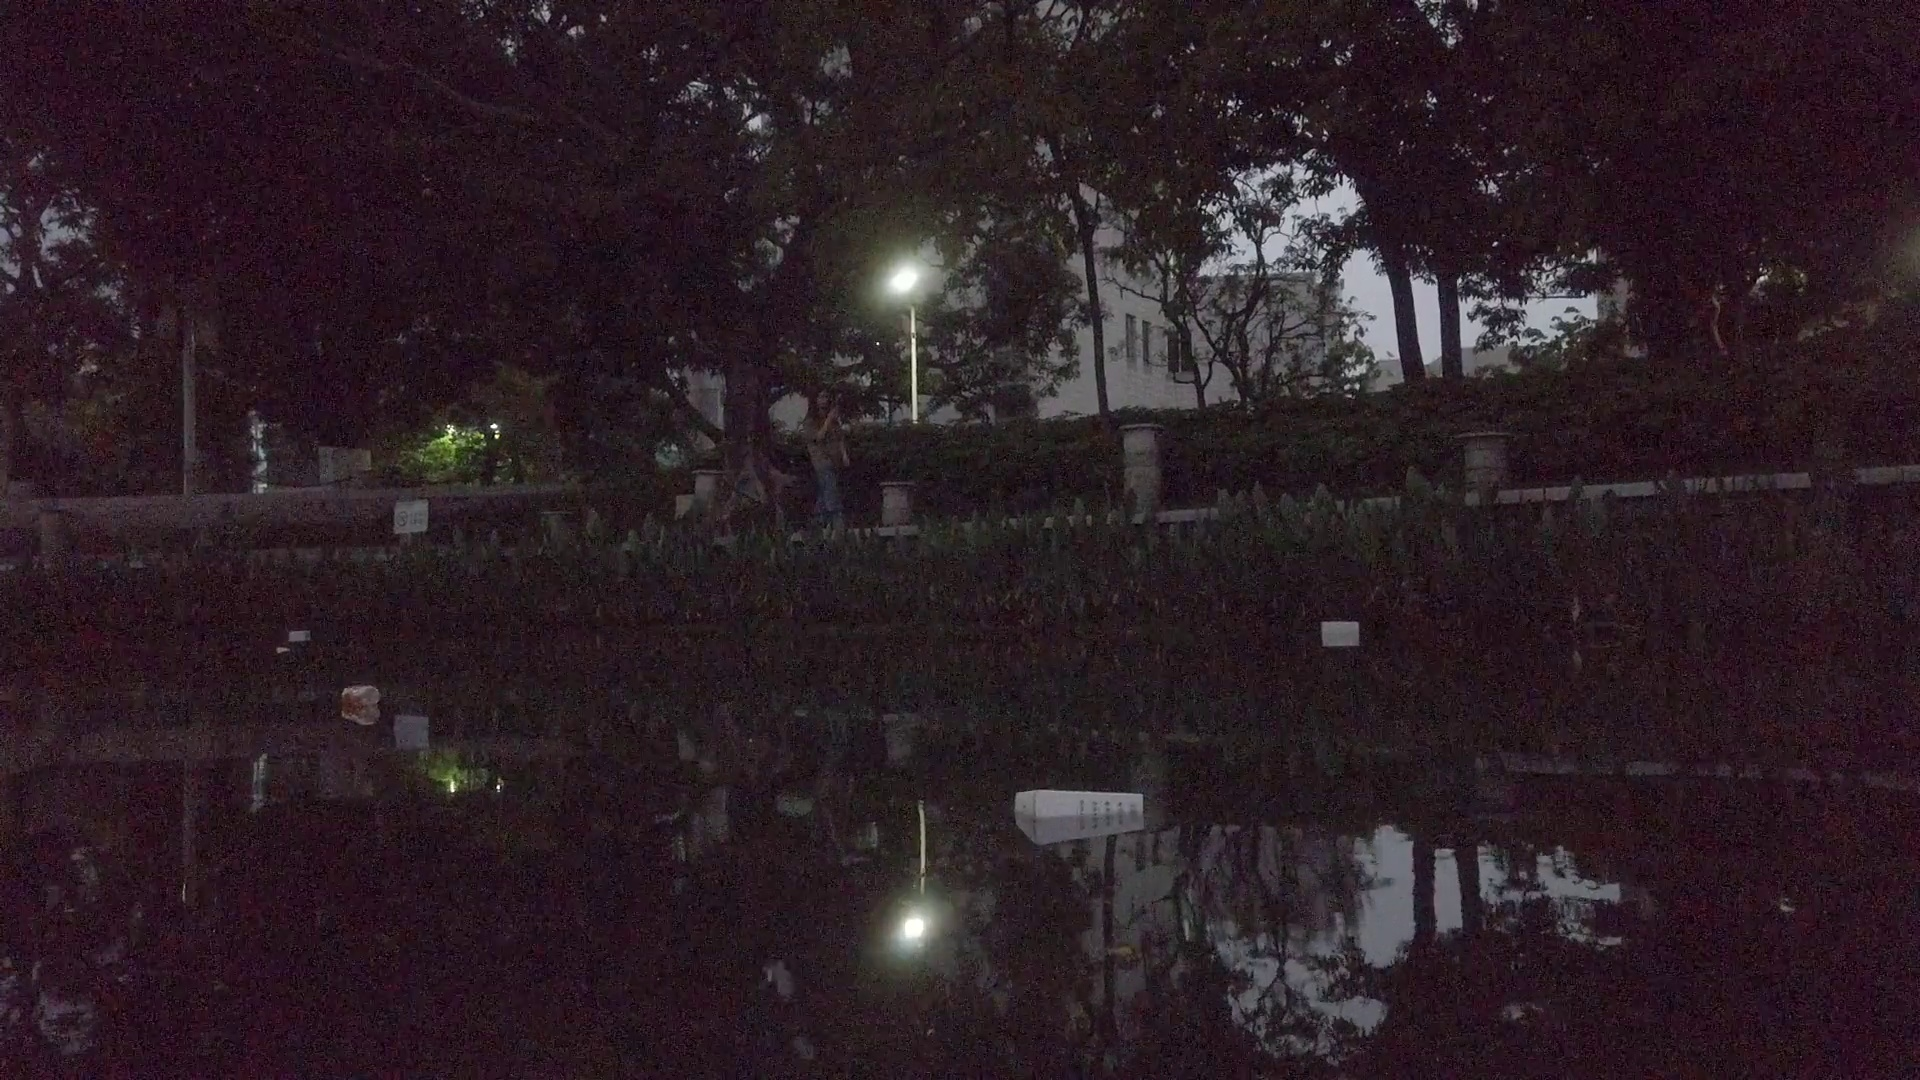bottle: (342, 684, 382, 707)
carton: (1013, 789, 1143, 824), (1317, 620, 1360, 641), (290, 630, 311, 641)
paper: (274, 644, 295, 658)
